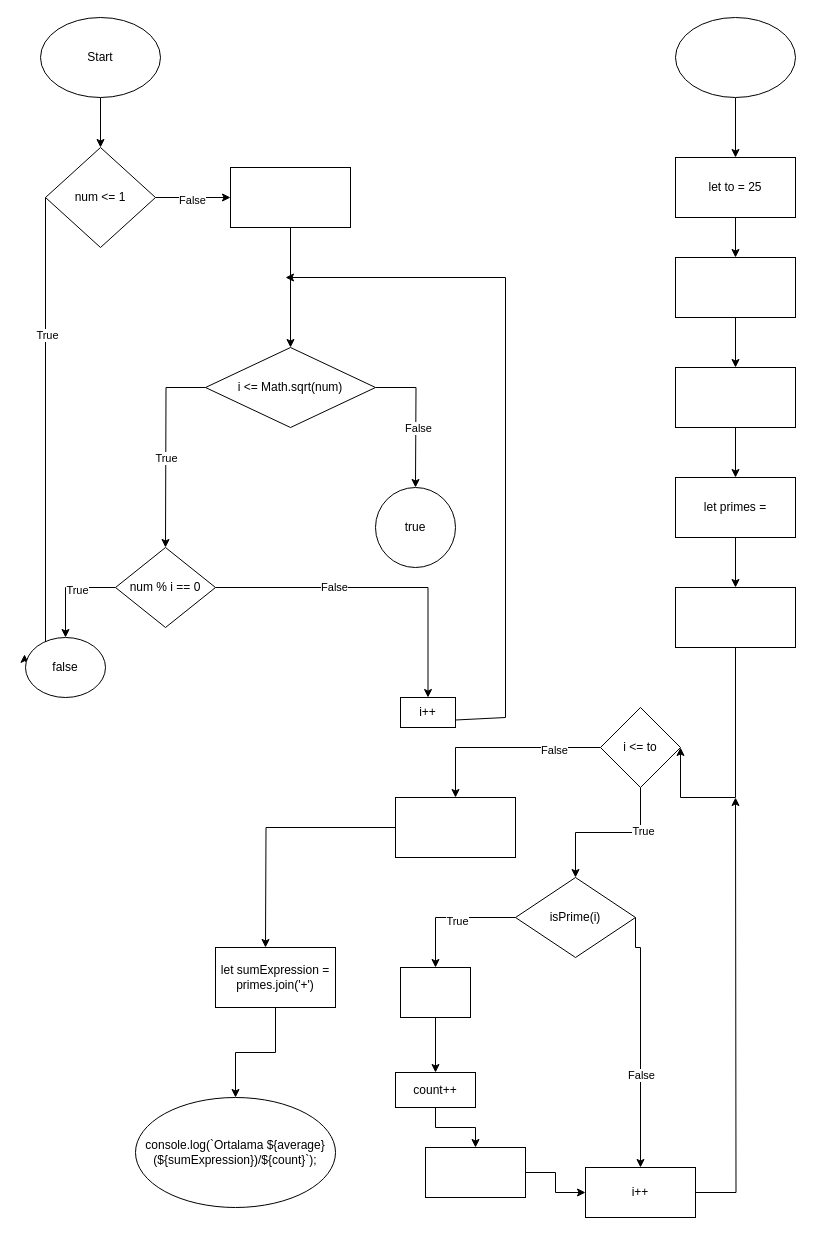
The diagram is 813 pixels wide and 1243 high, and some of its shapes have lost their labels. Each missing label, with the centre of its shape:
"let average = sum / count" goes at (x=455, y=827).
"let count = 0" goes at (x=735, y=397).
"let from = 12" goes at (x=735, y=57).
"let i = 2" goes at (x=290, y=197).
"let i = from" goes at (x=735, y=617).
"let sum = 0" goes at (x=735, y=287).
"primes.push(i)" goes at (x=475, y=1172).
"sum += i" goes at (x=435, y=992).
